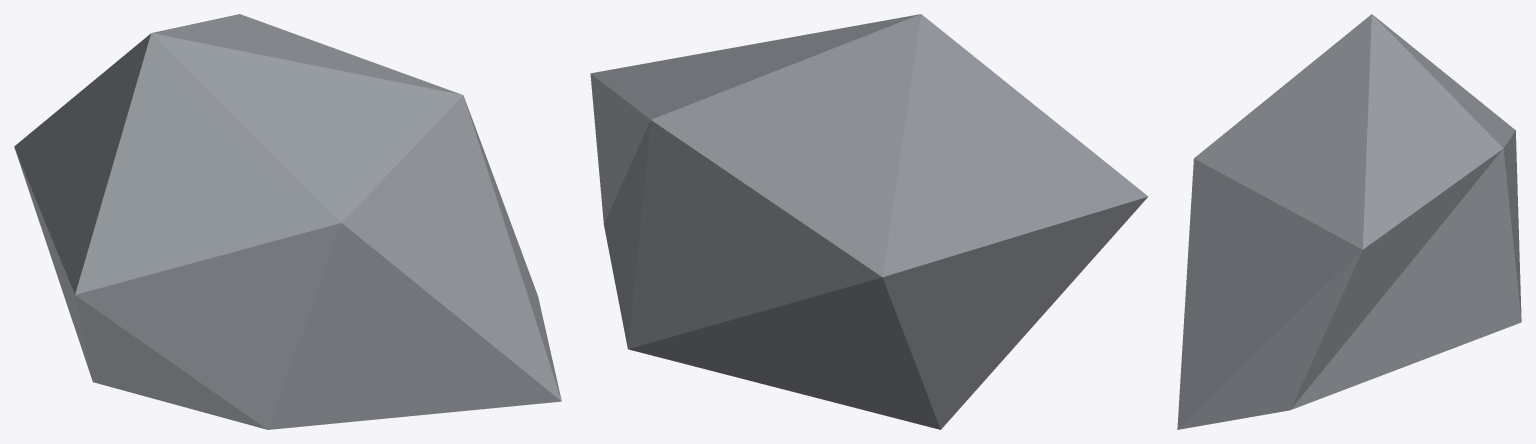
The model's file is stone-type-005.obj.
3 renders of one model, left to right at view 1: azimuth 30°, elevation 25°; view 2: azimuth 150°, elevation 25°; view 3: azimuth 270°, elevation 25°, orthographic. The views are drawn at different scales.
Visible parts, largest first — view 1: stone-type-004-rndm.001; view 2: stone-type-004-rndm.001; view 3: stone-type-004-rndm.001.
Part boxes in pixels (left/top/right/bottom): stone-type-004-rndm.001: left=14, top=14, right=561, bottom=429; stone-type-004-rndm.001: left=590, top=14, right=1148, bottom=429; stone-type-004-rndm.001: left=1177, top=14, right=1521, bottom=429.
Bounding box in the file's own units: 0.5803 × 0.4338 × 0.4322.
